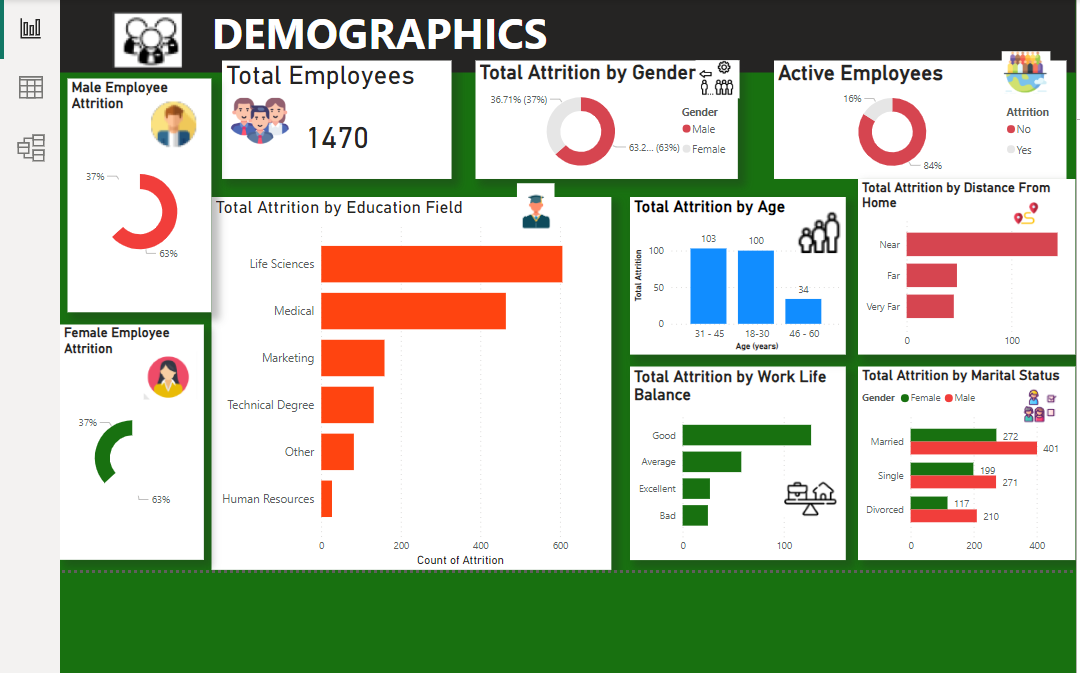

The page's visual inventory and layout, read from the dashboard file:
{"tool":"powerbi","page":{"name":"Page 2","canvas":[1280,720],"ordinal":1},"visuals":[{"type":"textbox","box":[0,0,1280,92.6],"z":0},{"type":"card","title":"Total Employees","fields":{"Values":["Sum(HR-Employee-Attrition.EmployeeCount)"]},"box":[204.2,77.5,289.3,149.4],"z":1000},{"type":"clusteredBarChart","title":"Total Attrition by Education Field ","fields":{"Category":["HR-Employee-Attrition.EducationField"],"Y":["CountNonNull(HR-Employee-Attrition.Attrition)"]},"box":[190.7,249.2,504.1,470.1],"z":2000},{"type":"donutChart","title":"Total Attrition  by Gender","fields":{"Category":["HR-Employee-Attrition.Gender"],"Y":["Sum(HR-Employee-Attrition.Attrition Count)"]},"box":[523.7,77.5,330.9,149.4],"z":3000},{"type":"donutChart","title":"Active Employees","fields":{"Y":["Sum(HR-Employee-Attrition.AE)"],"Category":["HR-Employee-Attrition.Attrition"]},"box":[900,77.5,368.7,149.4],"z":4000},{"type":"clusteredBarChart","title":"Total Attrition by Work Life Balance","fields":{"Category":["HR-Employee-Attrition.WorkLifeBalance (groups)"],"Y":["Sum(HR-Employee-Attrition.Attrition Count)"]},"box":[718.5,463.2,272.3,243.9],"z":5000},{"type":"clusteredColumnChart","title":"Total Attrition by Age","fields":{"Category":["HR-Employee-Attrition.Age (groups)"],"Y":["Sum(HR-Employee-Attrition.Attrition Count)"]},"box":[718.5,249.6,272.3,198.5],"z":6000},{"type":"clusteredBarChart","title":"Total Attrition by Distance From Home","fields":{"Y":["Sum(HR-Employee-Attrition.Attrition Count)"],"Category":["HR-Employee-Attrition.DistanceFromHome (groups)"]},"box":[1005.8,226.9,274.2,221.2],"z":7000},{"type":"clusteredBarChart","title":"Total Attrition by Marital Status","fields":{"Y":["CountNonNull(HR-Employee-Attrition.MaritalStatus)"],"Category":["HR-Employee-Attrition.MaritalStatus"],"Series":["HR-Employee-Attrition.Gender"]},"box":[1005.8,463.2,274.2,243.9],"z":8000},{"type":"donutChart","title":"Male Employee Attrition ","fields":{"Y":["Sum(HR-Employee-Attrition.Attrition Count)"],"Category":["HR-Employee-Attrition.Gender"]},"box":[9.5,100.2,181.5,294.9],"z":9000},{"type":"donutChart","title":"Female Employee Attrition","fields":{"Y":["Sum(HR-Employee-Attrition.Attrition Count)"],"Category":["HR-Employee-Attrition.Gender"]},"box":[0,410.3,181.5,296.8],"z":10000},{"type":"image","box":[100.2,423.5,77.5,102.1],"z":10001},{"type":"image","box":[1189.2,484,90.8,56.7],"z":10002},{"type":"image","box":[922.7,249.6,68.1,85.1],"z":10003},{"type":"image","box":[1166.6,249.6,102.1,43.5],"z":10004},{"type":"image","box":[900,586.1,90.8,87],"z":10005},{"type":"image","box":[786.5,71.8,85.1,58.6],"z":10006},{"type":"image","box":[1181.7,49.2,71.8,87],"z":10007},{"type":"image","box":[554,226.9,90.8,71.8],"z":10008},{"type":"image","box":[204.2,113.4,90.8,79.4],"z":10009},{"type":"image","box":[100.2,113.4,90.8,79.4],"z":10010},{"type":"image","box":[60.5,0,98.3,102.1],"z":10011}]}

Visuals, with their boxes in screenshot pixels (x1, y1, x2, y2):
textbox: region(51, 0, 1078, 69)
"Total Employees" card: region(215, 57, 447, 176)
"Total Attrition by Education Field " clusteredBarChart: region(204, 194, 608, 572)
"Total Attrition  by Gender" donutChart: region(471, 57, 737, 176)
"Active Employees" donutChart: region(773, 57, 1069, 176)
"Total Attrition by Work Life Balance" clusteredBarChart: region(627, 366, 846, 562)
"Total Attrition by Age" clusteredColumnChart: region(627, 195, 846, 354)
"Total Attrition by Distance From Home" clusteredBarChart: region(858, 176, 1078, 354)
"Total Attrition by Marital Status" clusteredBarChart: region(858, 366, 1078, 562)
"Male Employee Attrition " donutChart: region(58, 75, 204, 311)
"Female Employee Attrition" donutChart: region(51, 324, 196, 562)
image: region(131, 334, 193, 416)
image: region(1005, 383, 1078, 428)
image: region(791, 195, 846, 263)
image: region(987, 195, 1069, 230)
image: region(773, 465, 846, 535)
image: region(682, 52, 750, 99)
image: region(999, 34, 1057, 104)
image: region(495, 176, 568, 234)
image: region(215, 85, 287, 149)
image: region(131, 85, 204, 149)
image: region(99, 0, 178, 76)
